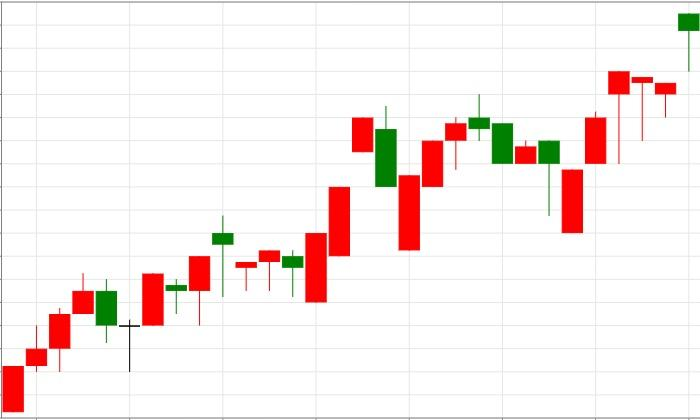three_white_soldiers_rise: (469, 70, 630, 233)
